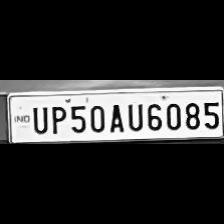0: (86, 100, 106, 134), (162, 99, 182, 130)
5: (66, 100, 86, 134), (200, 98, 220, 130)
6: (142, 99, 162, 131)
8: (182, 99, 200, 130)
A: (107, 100, 125, 134)
P: (47, 102, 66, 134)
U: (28, 102, 48, 134), (124, 99, 144, 131)
